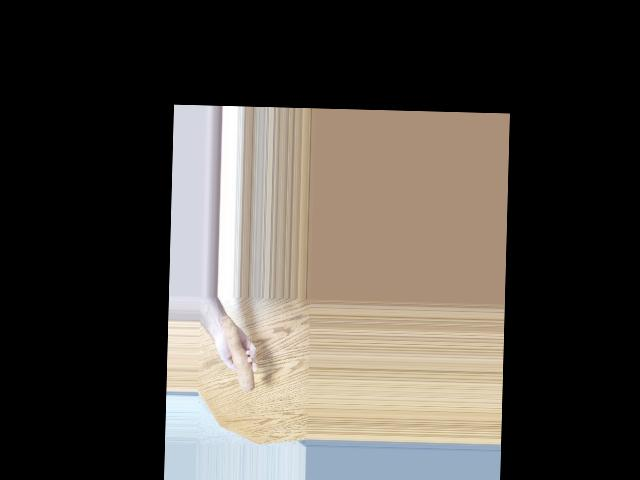sweet_potato: (219, 317, 257, 392)
